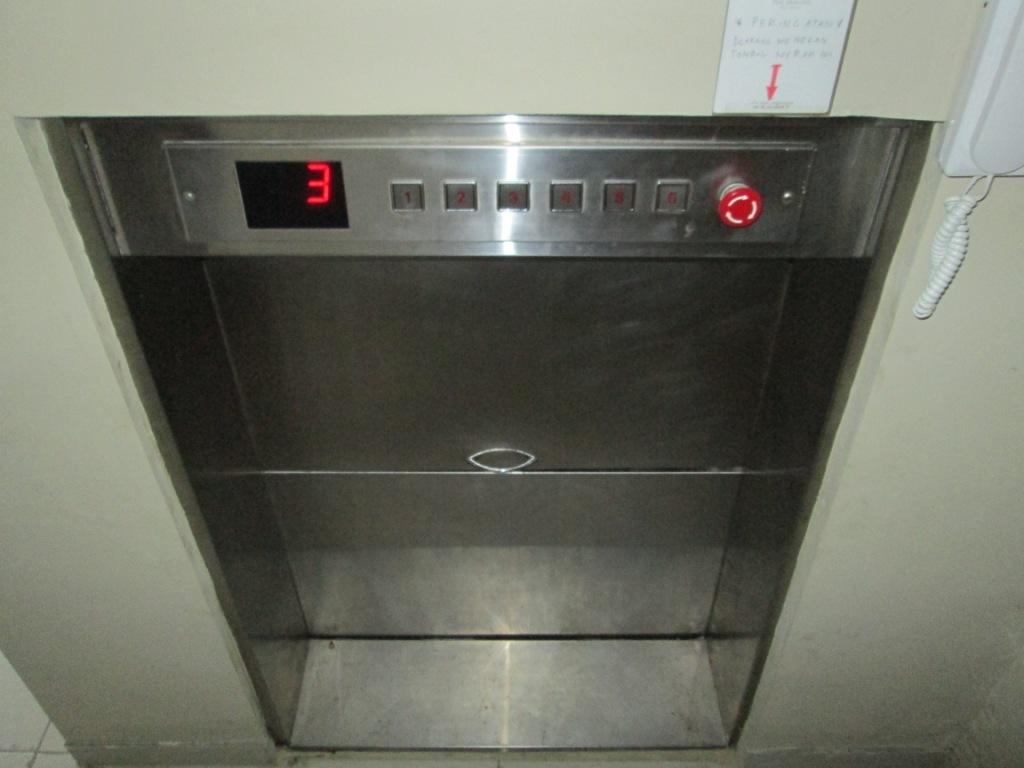1: (387, 177, 427, 214)
2: (442, 177, 480, 213)
3: (494, 176, 535, 215)
4: (547, 179, 587, 216)
5: (600, 177, 637, 215)
6: (653, 179, 691, 215)
empty: (714, 178, 762, 231)
led: (231, 157, 355, 233)
